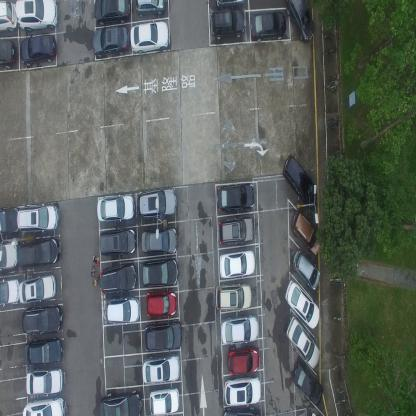car: (282, 152, 315, 214), (286, 314, 320, 370), (284, 279, 320, 330), (292, 358, 323, 408), (289, 210, 319, 256), (19, 32, 57, 68), (22, 304, 64, 336), (18, 234, 60, 266), (291, 247, 319, 294), (130, 19, 168, 53), (285, 0, 315, 43), (16, 0, 59, 30), (141, 352, 181, 384), (92, 24, 130, 57), (17, 201, 58, 231), (101, 259, 138, 292), (140, 221, 178, 253), (216, 178, 254, 210), (98, 387, 141, 415), (209, 7, 245, 40), (20, 270, 57, 302), (139, 184, 176, 216), (140, 256, 178, 287), (97, 190, 135, 221), (105, 295, 140, 328), (220, 312, 258, 342), (144, 320, 182, 350), (250, 11, 286, 42), (27, 367, 64, 396), (224, 376, 261, 405), (28, 338, 64, 367), (220, 246, 256, 275), (214, 282, 251, 310), (99, 225, 136, 252), (217, 214, 254, 241), (226, 345, 259, 375), (93, 0, 130, 25), (149, 386, 179, 416), (146, 286, 176, 314), (22, 396, 65, 415), (0, 202, 20, 237), (135, 0, 166, 19), (0, 38, 17, 71), (1, 276, 20, 304), (0, 0, 16, 33), (0, 239, 18, 268)
